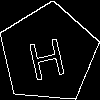H: (24, 29, 68, 81)
